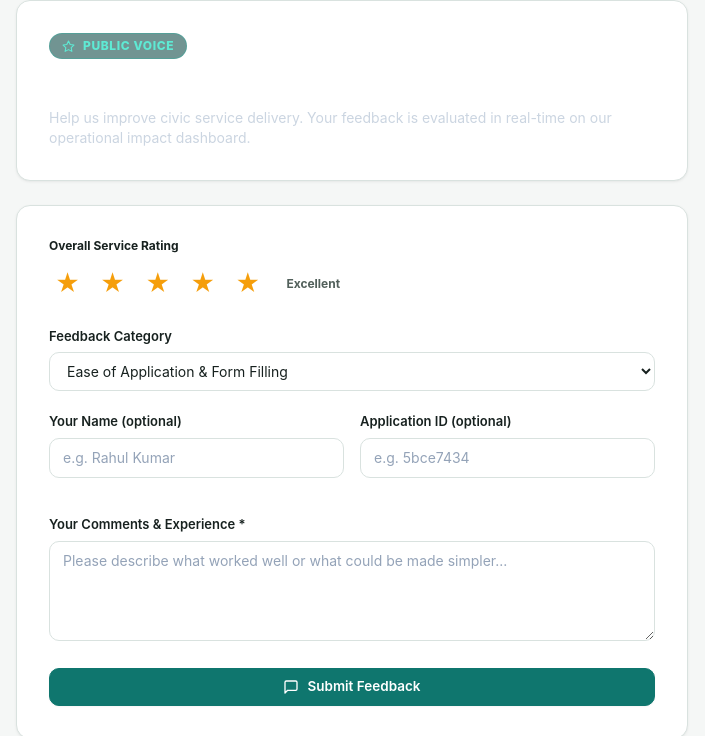
Feedback › requires text before submitting
Click the button "Submit Feedback": coordinates (352, 687) [49, 668, 655, 706]
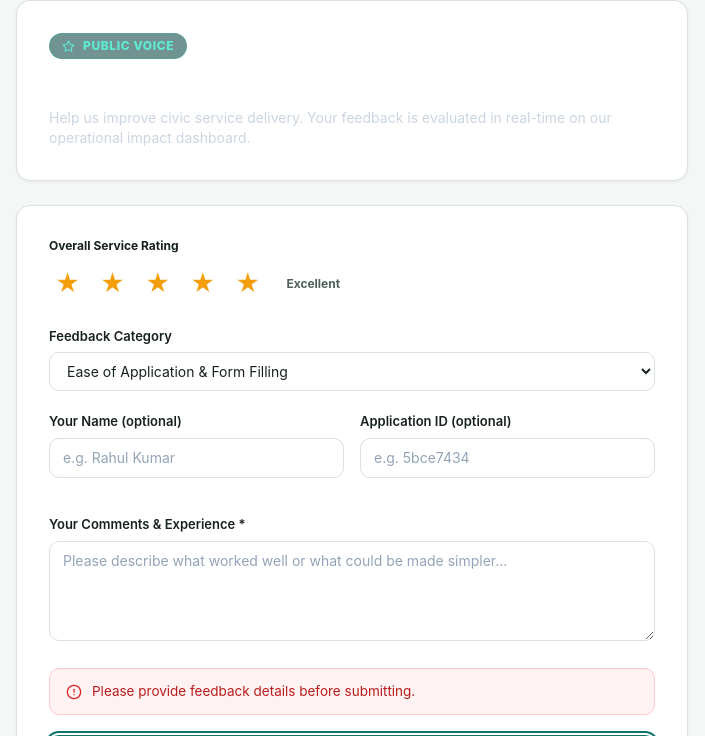
expect the text "Please provide feedback details before submitting." is shown: met, box [92, 681, 415, 702]
